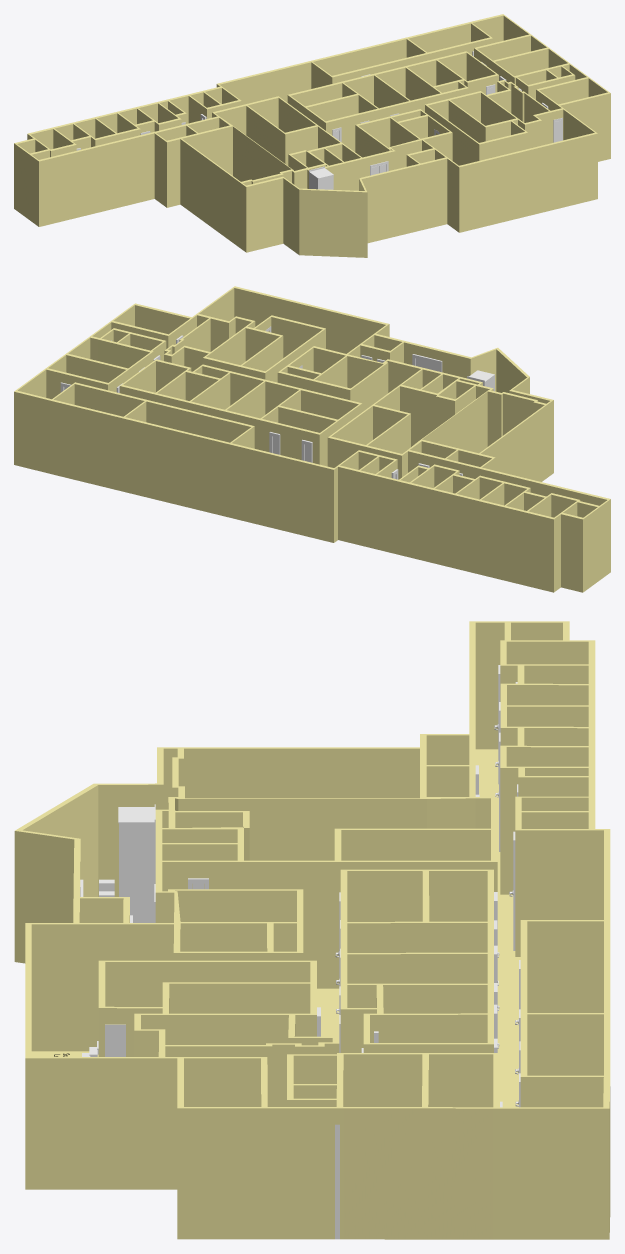
File: SoC_COM_1_Level_1.glb
3 views of the same model, one above another, from view 1: azimuth 30°, elevation 25°; view 2: azimuth 150°, elevation 25°; view 3: azimuth 270°, elevation 25° (orthographic). The views are drawn at different scales.
Parts seen in each view (by area): view 1: Plane; view 2: Plane; view 3: Plane, Cabinet1.001.
Boxes of the visible parts, x1=… form: Plane: x1=14, y1=14, x2=610, y2=257; Plane: x1=14, y1=286, x2=610, y2=592; Plane: x1=14, y1=621, x2=610, y2=1239; Cabinet1.001: x1=120, y1=823, x2=155, y2=922.
Bounding box in the file's own units: 19.12 × 2.63 × 9.88.
